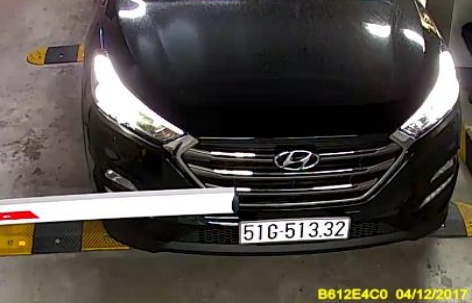plate: (242, 219, 350, 240)
